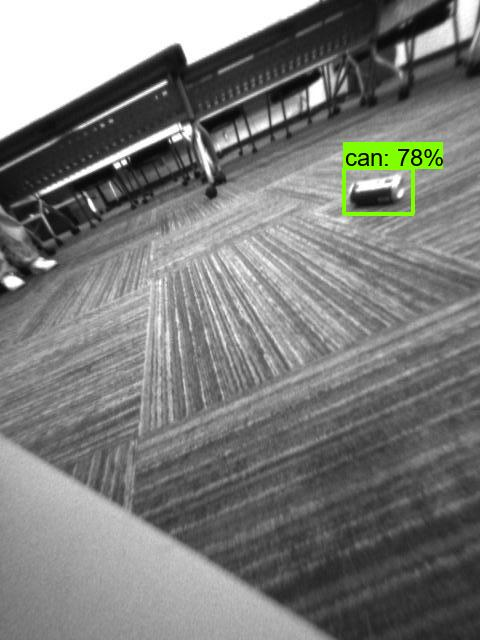can: (345, 168, 407, 216)
